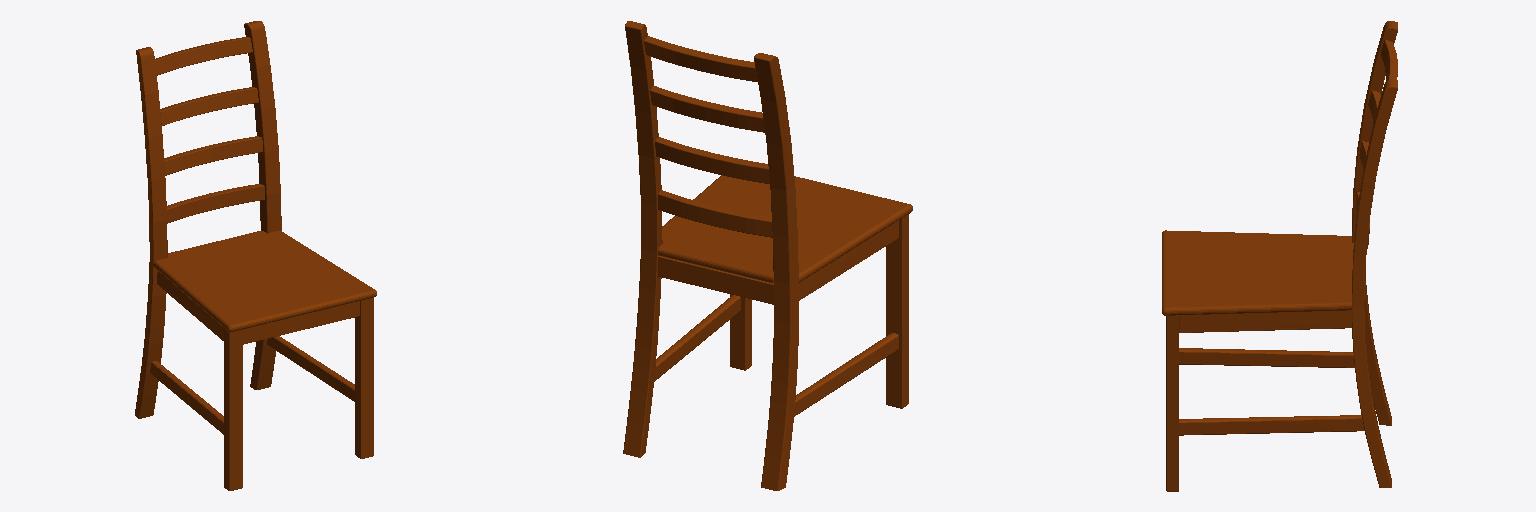
robot.urdf — kit_chair.urdf:
<?xml version="0.0" ?>
<robot name="kit_chair.urdf">
  <link name="baseLink">
    <contact>
      <lateral_friction value="1.0"/>
    </contact>

    <inertial>
      <origin rpy="0 0 0" xyz="0 0 0"/>
       <mass value=".0"/>
       <inertia ixx="1" ixy="0" ixz="0" iyy="1" iyz="0" izz="1"/>
    </inertial>

    <visual>
      <origin rpy="1.57075 0 0" xyz="0 0 0"/>
      <geometry>
        <mesh filename="kit_chair.obj" scale="1 1 1"/>
      </geometry>
       <material name="gray">
        <color rgba="0.545 0.27 0.07 1"/>
      </material>
    </visual>

    <collision concave="yes">
      <origin rpy="1.57075 0 0" xyz="0 0 0"/>
      <geometry>
	 	    <mesh filename="kit_chair.obj" scale="1 1 1"/>
      </geometry>
    </collision>
  </link>
</robot>

--- Facts derived from the render (not from the file) ---
Views: 3 orthographic renders of the robot side by side, from view 1: azimuth 30°, elevation 25°; view 2: azimuth 150°, elevation 25°; view 3: azimuth 270°, elevation 25°.
Robot: kit_chair.urdf — 1 links, 0 joints (none); root link baseLink; default pose: all joints at 0.
Links seen in each view (by area): view 1: baseLink; view 2: baseLink; view 3: baseLink.
Boxes of the visible links, x1,y1,x2,y2 form: baseLink: [135, 21, 376, 490]; baseLink: [623, 21, 912, 490]; baseLink: [1162, 21, 1397, 491].
Bounding box of the posed robot: 44 × 54.85 × 102 m (x, y, z).
1 mesh visuals loaded from 1 distinct referenced files (1 OBJ).